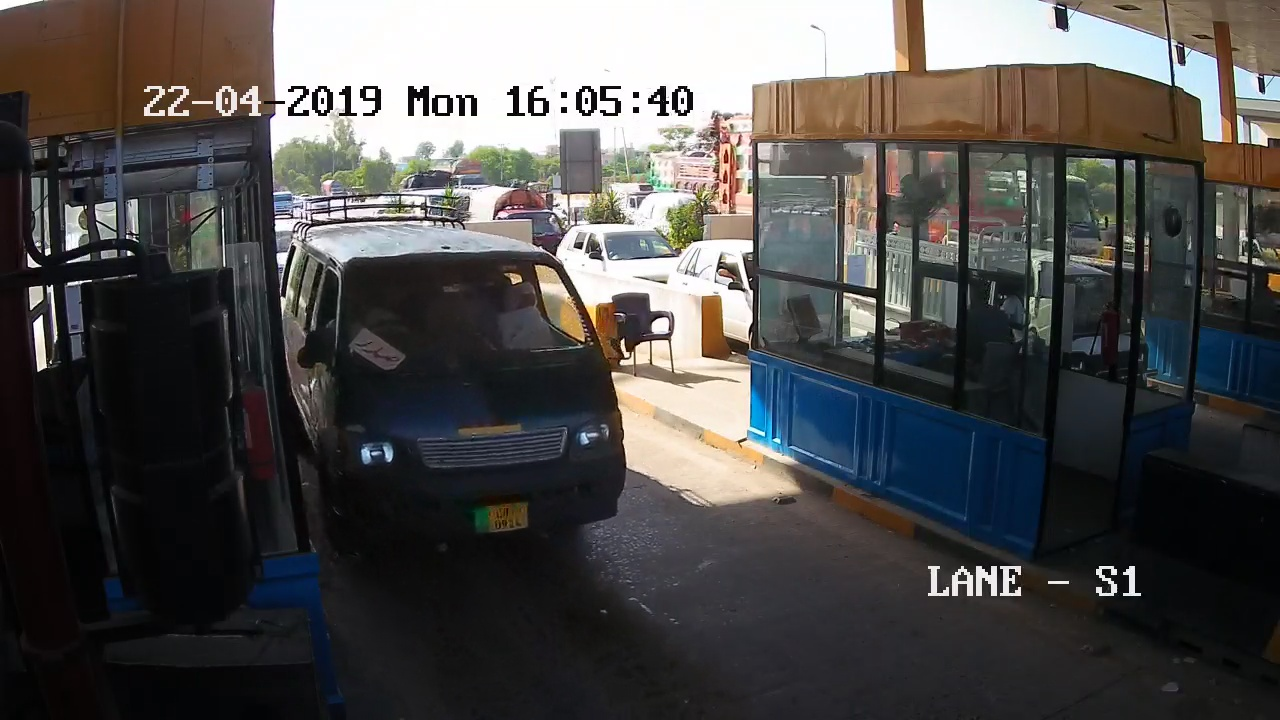Number Plate (Car): (469, 501, 538, 533)
